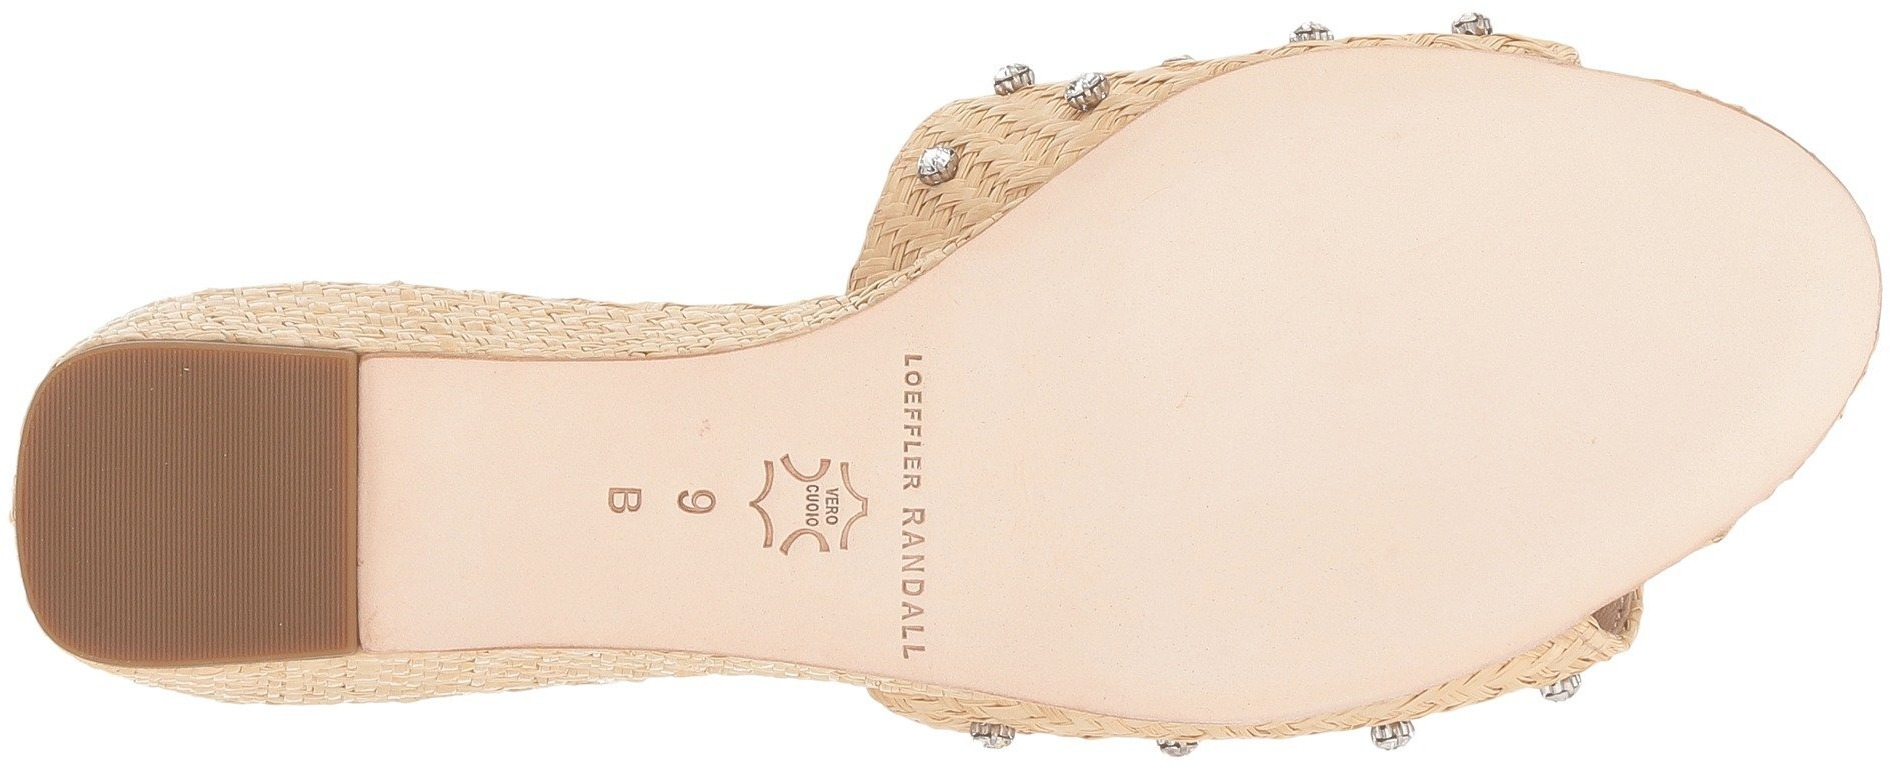exclude: (353, 290, 600, 670)
other: (1207, 215, 1551, 546), (1383, 113, 1720, 442), (1032, 211, 1385, 511), (72, 378, 325, 617), (1117, 513, 1292, 708), (1393, 452, 1574, 616), (1721, 227, 1855, 386), (1232, 78, 1375, 204)
text: (859, 340, 1035, 481), (868, 501, 1006, 646), (593, 442, 722, 576)
